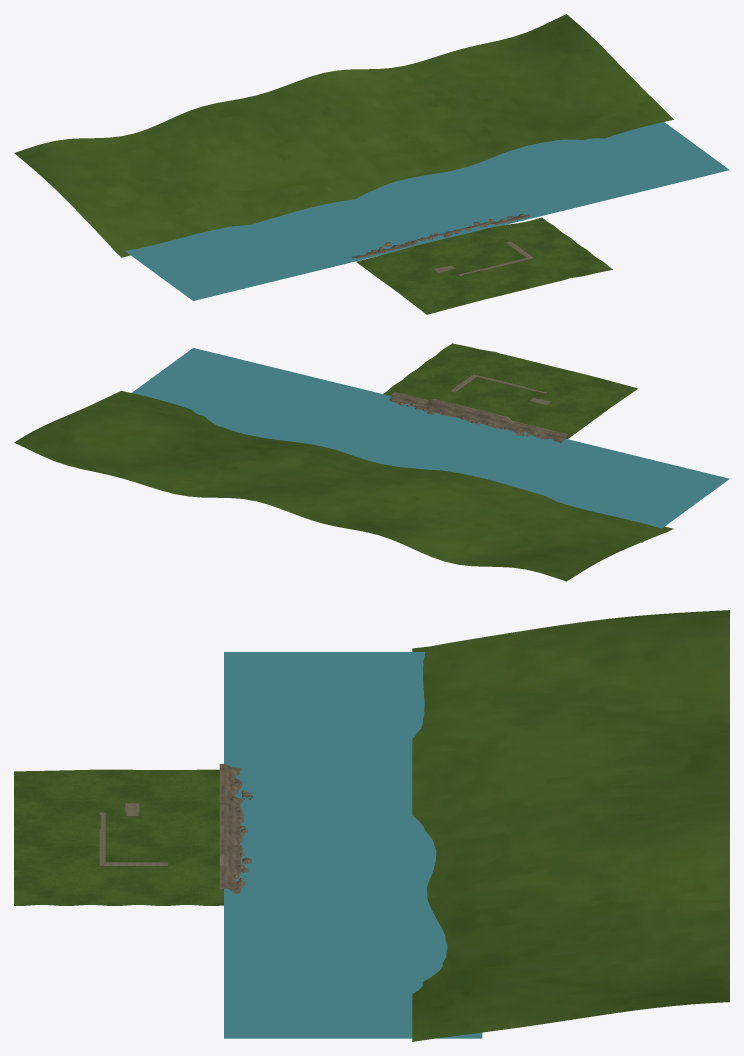
Rendered from terrain_river.glb.
3 views of the same model, one above another, from view 1: azimuth 30°, elevation 25°; view 2: azimuth 150°, elevation 25°; view 3: azimuth 270°, elevation 25° (orthographic). The views are drawn at different scales.
Visible parts, largest first — view 1: Terrain_Opposite_Ozama_Bank, Terrain_Ozama_River_Surface, Terrain_Courtyard_And_Surrounding_Ground, Terrain_Coastal_Coral_Cliff; view 2: Terrain_Opposite_Ozama_Bank, Terrain_Ozama_River_Surface, Terrain_Courtyard_And_Surrounding_Ground, Terrain_Coastal_Coral_Cliff, Terrain_Colonial_Cobblestone_Walks; view 3: Terrain_Opposite_Ozama_Bank, Terrain_Ozama_River_Surface, Terrain_Courtyard_And_Surrounding_Ground, Terrain_Coastal_Coral_Cliff, Terrain_Colonial_Cobblestone_Walks.
Part boxes in pixels (<box>): Terrain_Opposite_Ozama_Bank: <box>14,14,673,257</box>; Terrain_Ozama_River_Surface: <box>125,122,729,300</box>; Terrain_Courtyard_And_Surrounding_Ground: <box>356,217,612,314</box>; Terrain_Coastal_Coral_Cliff: <box>351,214,530,258</box>; Terrain_Opposite_Ozama_Bank: <box>14,391,673,581</box>; Terrain_Ozama_River_Surface: <box>132,348,729,542</box>; Terrain_Courtyard_And_Surrounding_Ground: <box>383,343,637,438</box>; Terrain_Coastal_Coral_Cliff: <box>389,392,568,443</box>; Terrain_Colonial_Cobblestone_Walks: <box>450,374,550,405</box>; Terrain_Opposite_Ozama_Bank: <box>412,610,729,1041</box>; Terrain_Ozama_River_Surface: <box>224,652,482,1038</box>; Terrain_Courtyard_And_Surrounding_Ground: <box>14,769,223,905</box>; Terrain_Coastal_Coral_Cliff: <box>219,764,252,894</box>; Terrain_Colonial_Cobblestone_Walks: <box>99,803,167,866</box>.
Bounding box in the file's own units: 350 × 19.62 × 266.
5 materials, 4 textured.
